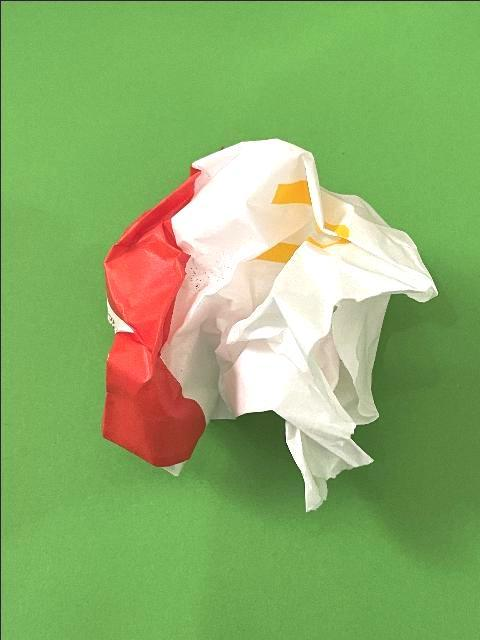paperbag: (99, 133, 439, 514)
